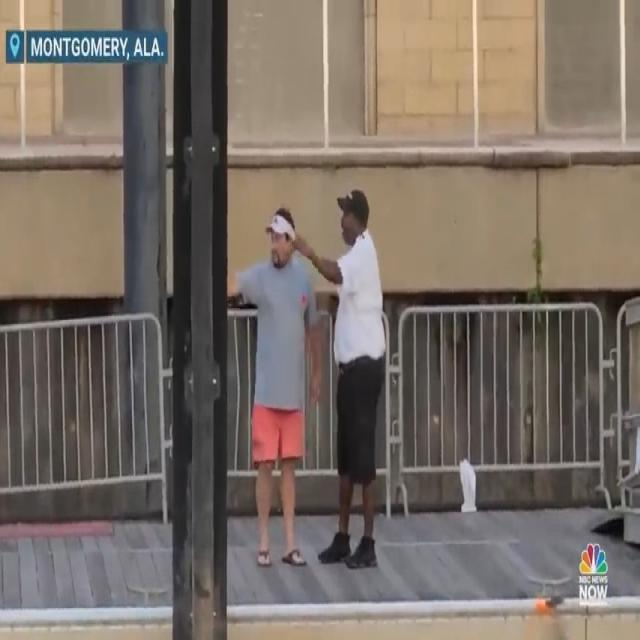non-fight: (227, 187, 393, 572)
